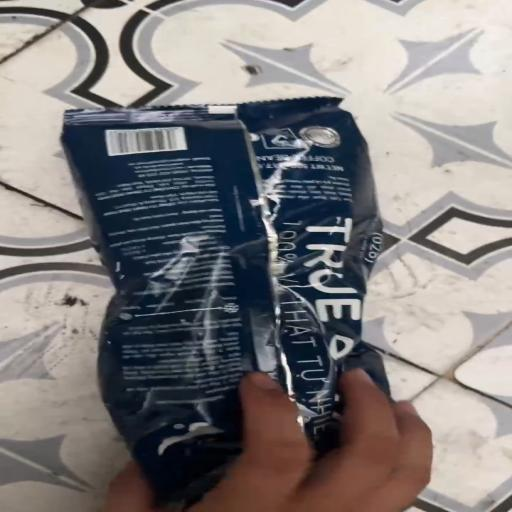cafe_hat: (61, 97, 388, 507)
